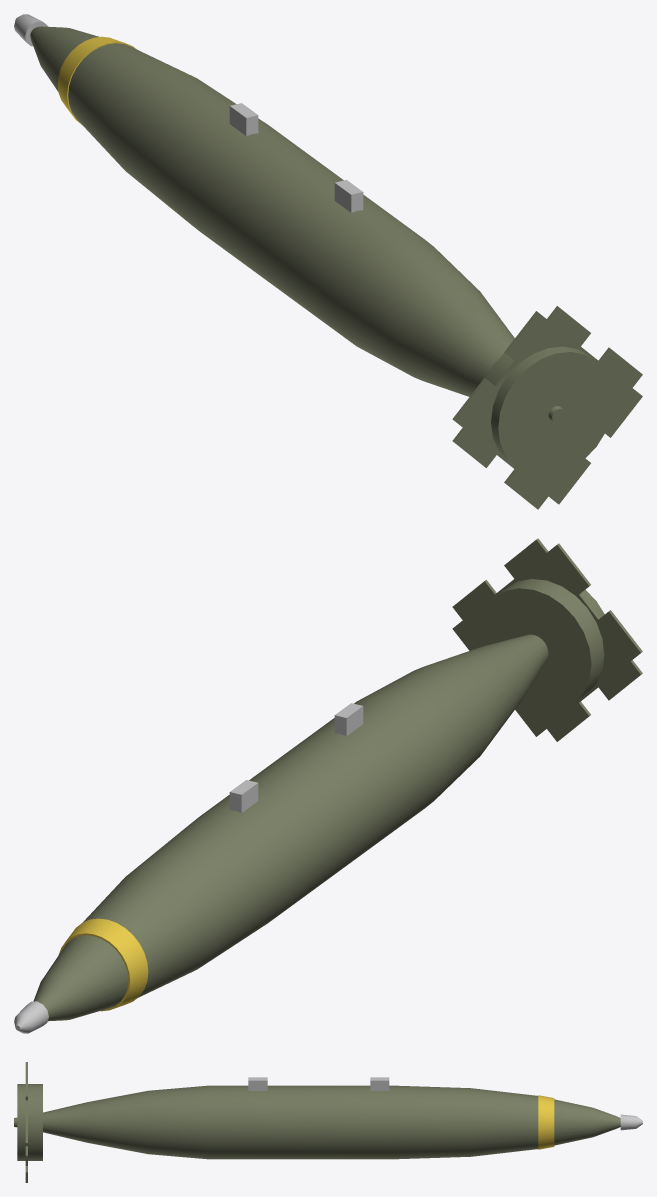
Rendered from gp_bomb.glb.
3 renders of one model, top to bottom at view 1: azimuth 30°, elevation 25°; view 2: azimuth 150°, elevation 25°; view 3: azimuth 270°, elevation 25°, orthographic. The views are drawn at different scales.
Parts seen in each view (by area): view 1: Bomb; view 2: Bomb; view 3: Bomb.
Boxes of the visible parts, x1=… form: Bomb: x1=14, y1=14, x2=642, y2=509; Bomb: x1=14, y1=538, x2=642, y2=1033; Bomb: x1=14, y1=1062, x2=642, y2=1182.
Size of the model in its own units: 0.7897 by 0.7897 by 3.92.
